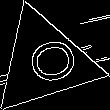O_W: (13, 33, 76, 90)
